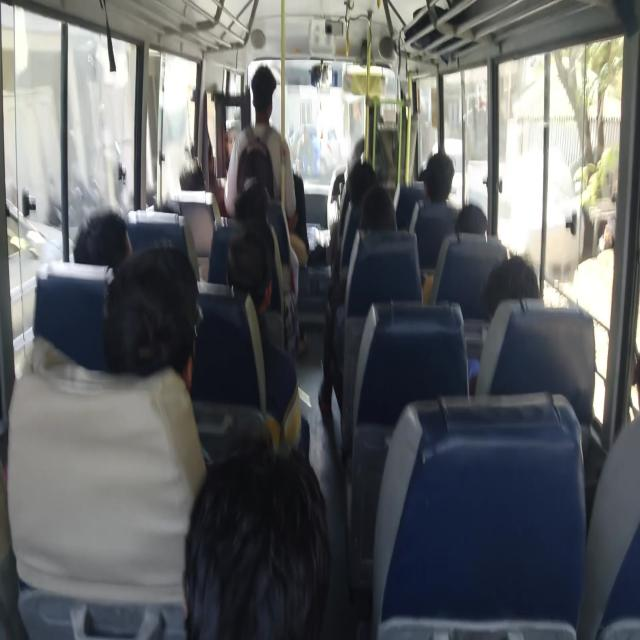person: (199, 412, 331, 640), (110, 262, 237, 376), (483, 247, 544, 345), (231, 228, 279, 324), (61, 220, 140, 274), (229, 133, 275, 194), (456, 196, 514, 242), (352, 161, 398, 215), (248, 61, 278, 137), (234, 184, 273, 234), (423, 137, 458, 191), (179, 153, 212, 201), (149, 192, 185, 236), (378, 208, 406, 252)
